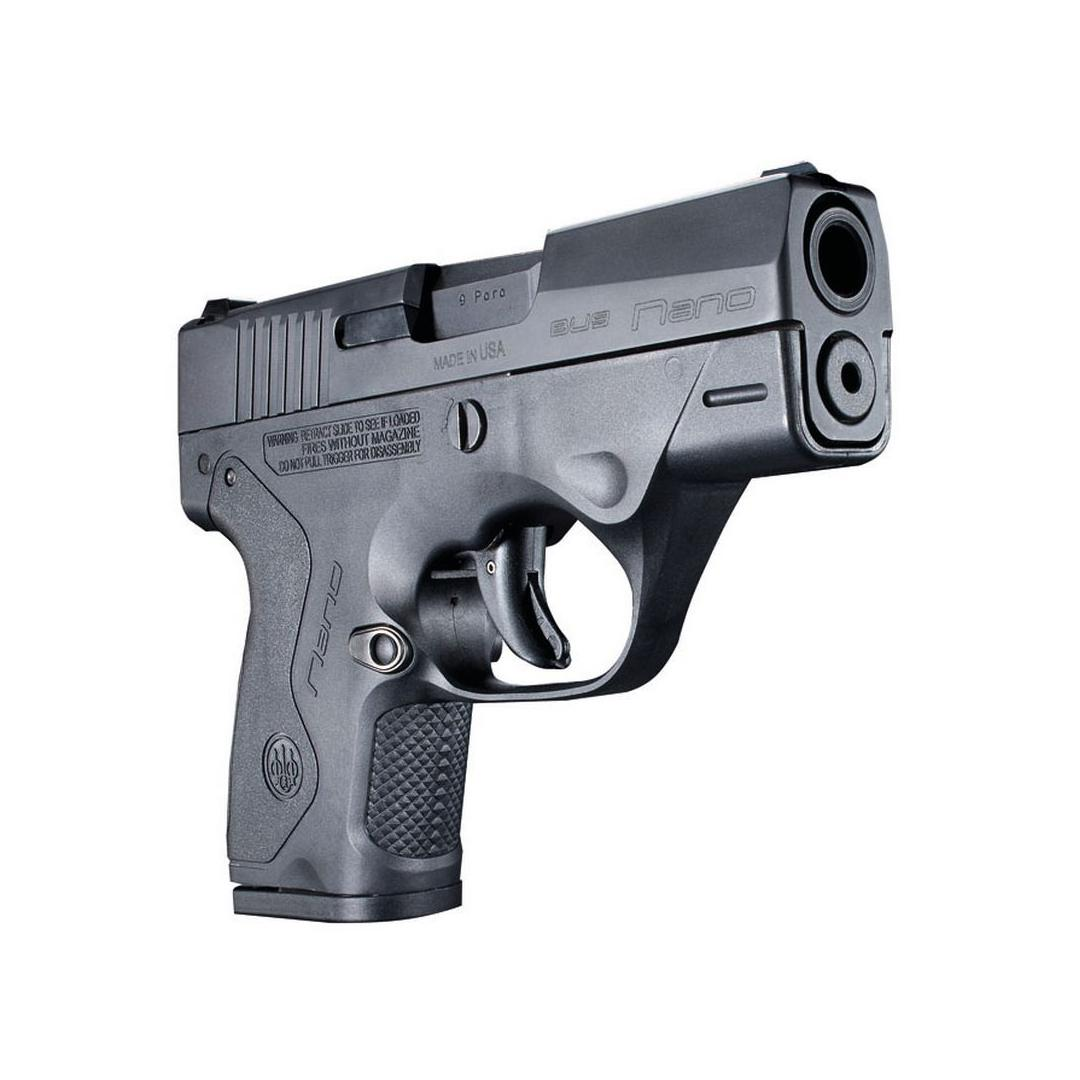Arma Real: (167, 160, 903, 926)
